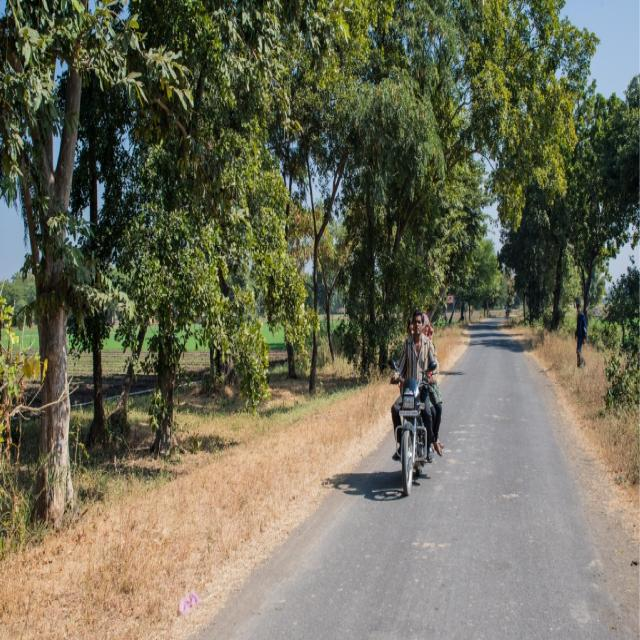motorcycle: (390, 309, 442, 495)
